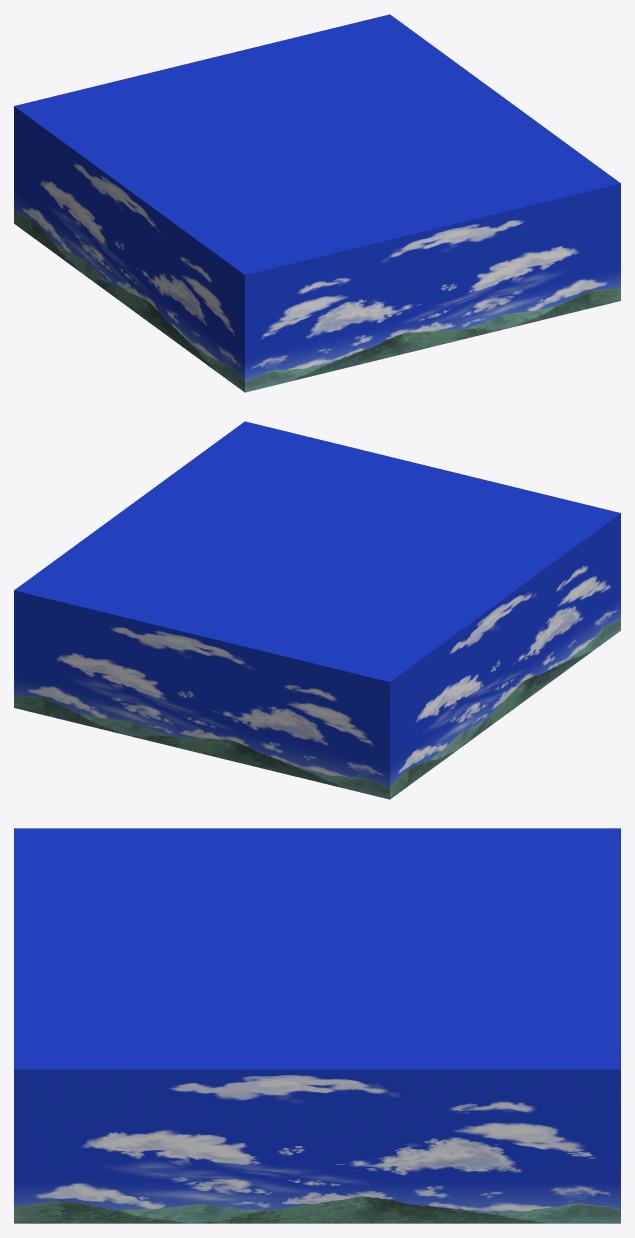
Rendered from battle_bg.fbx.
3 renders of one model, top to bottom at view 1: azimuth 30°, elevation 25°; view 2: azimuth 150°, elevation 25°; view 3: azimuth 270°, elevation 25°, orthographic. The views are drawn at different scales.
Parts seen in each view (by area): view 1: sky_poly; view 2: sky_poly; view 3: sky_poly.
Boxes of the visible parts, <box> form: sky_poly: <box>14,14,620,392</box>; sky_poly: <box>14,421,620,799</box>; sky_poly: <box>14,828,620,1223</box>.
Size of the model in its own units: 16746 by 5929 by 17816.
